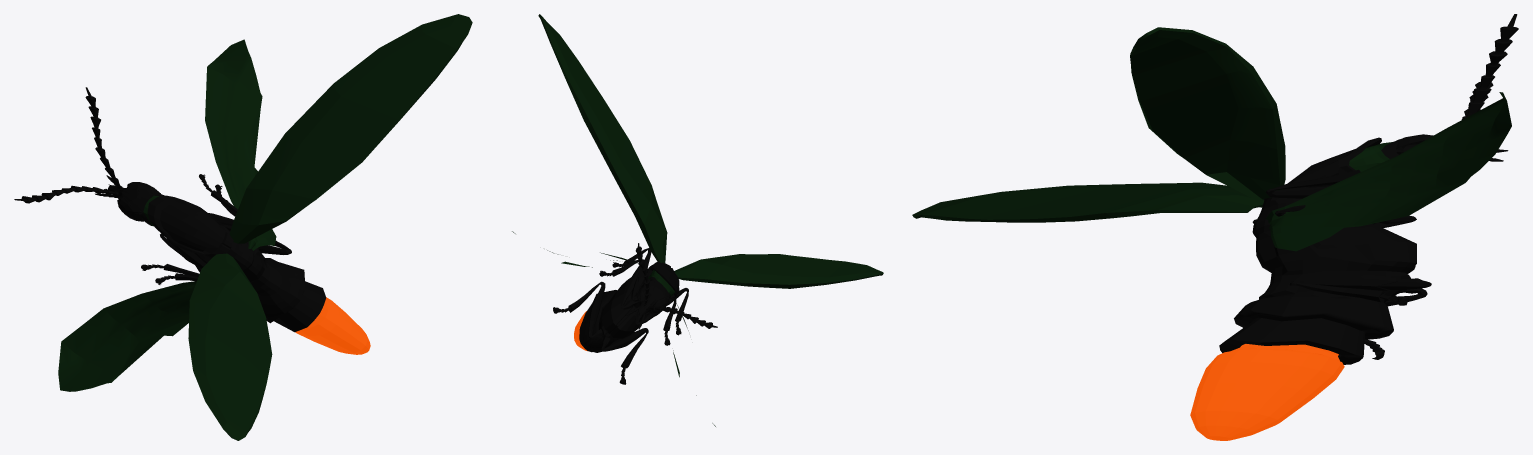
The model's file is Firefly 2.glb.
The picture shows the model from 3 angles, left to right: view 1: azimuth 30°, elevation 25°; view 2: azimuth 150°, elevation 25°; view 3: azimuth 270°, elevation 25°; orthographic projection. The views are drawn at different scales.
Parts seen in each view (by area): view 1: firefly.004, firefly, firefly.002, firefly.003, firefly.005; view 2: firefly, firefly.004, firefly.002; view 3: firefly, firefly.004, firefly.005, firefly.002.
Part boxes in pixels (x1,y1,x2,y2): firefly.004: (229,14,472,243); firefly: (14,87,370,354); firefly.002: (188,253,272,440); firefly.003: (58,281,196,391); firefly.005: (205,39,276,250); firefly: (553,243,717,384); firefly.004: (538,14,667,262); firefly.002: (674,254,883,288); firefly: (1190,14,1518,440); firefly.004: (1130,27,1285,201); firefly.005: (1265,92,1511,251); firefly.002: (912,182,1264,222).
Size of the model in its own units: 0.0977 by 0.1014 by 0.1121.
